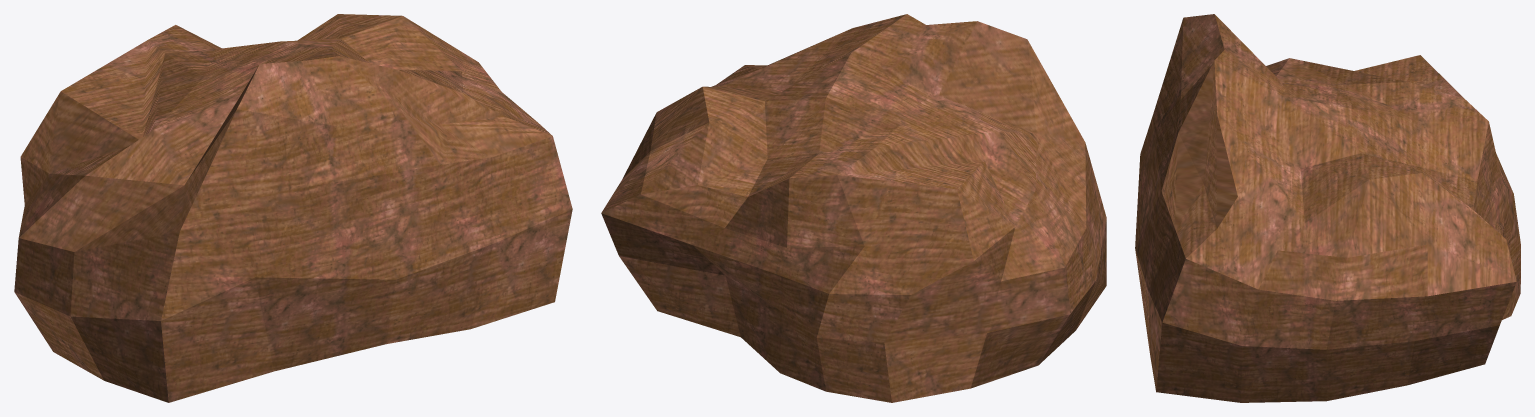
File: Pedra_1_Desertica.fbx
3 renders of one model, left to right at view 1: azimuth 30°, elevation 25°; view 2: azimuth 150°, elevation 25°; view 3: azimuth 270°, elevation 25°, orthographic. The views are drawn at different scales.
Parts seen in each view (by area): view 1: Pedra_1; view 2: Pedra_1; view 3: Pedra_1.
Part boxes in pixels (x1,y1,x2,y2): Pedra_1: (14, 14, 572, 402); Pedra_1: (601, 14, 1106, 402); Pedra_1: (1135, 14, 1520, 402).
Bounding box in the file's own units: 135 × 82.07 × 101.
1 material, 1 textured.
